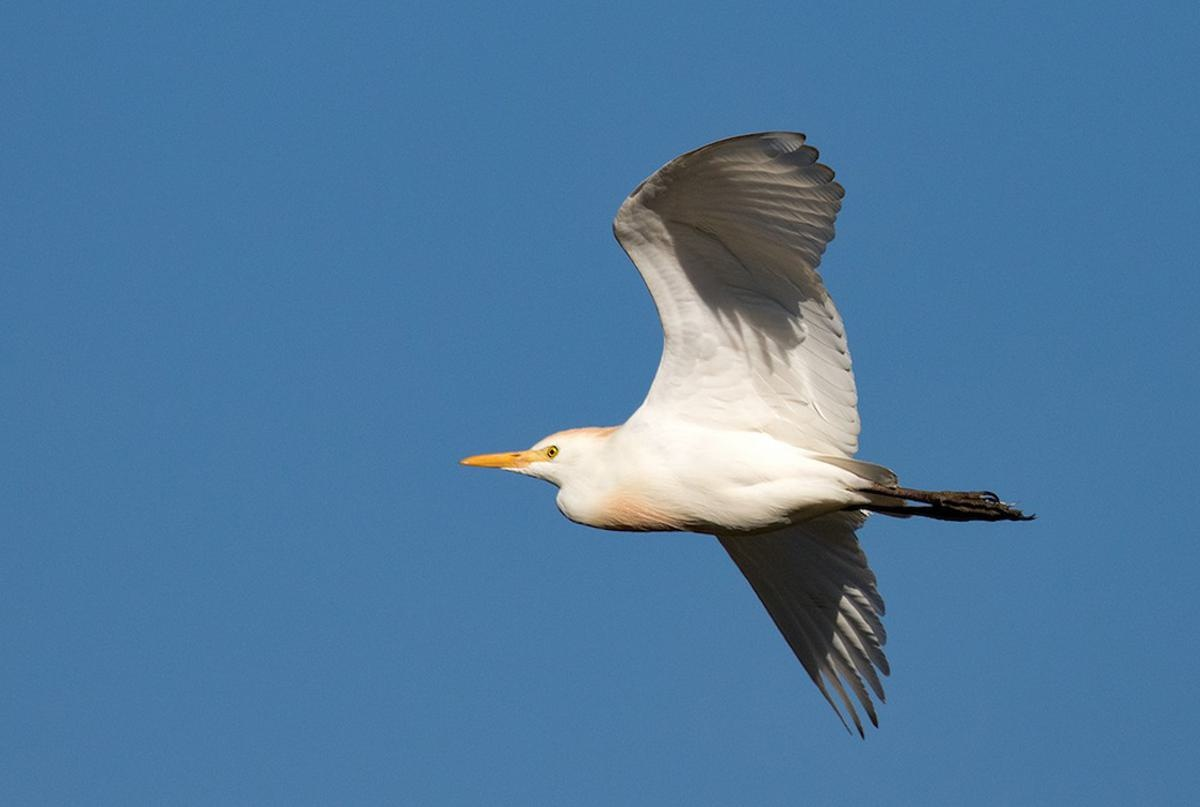egret: (465, 123, 1037, 734)
